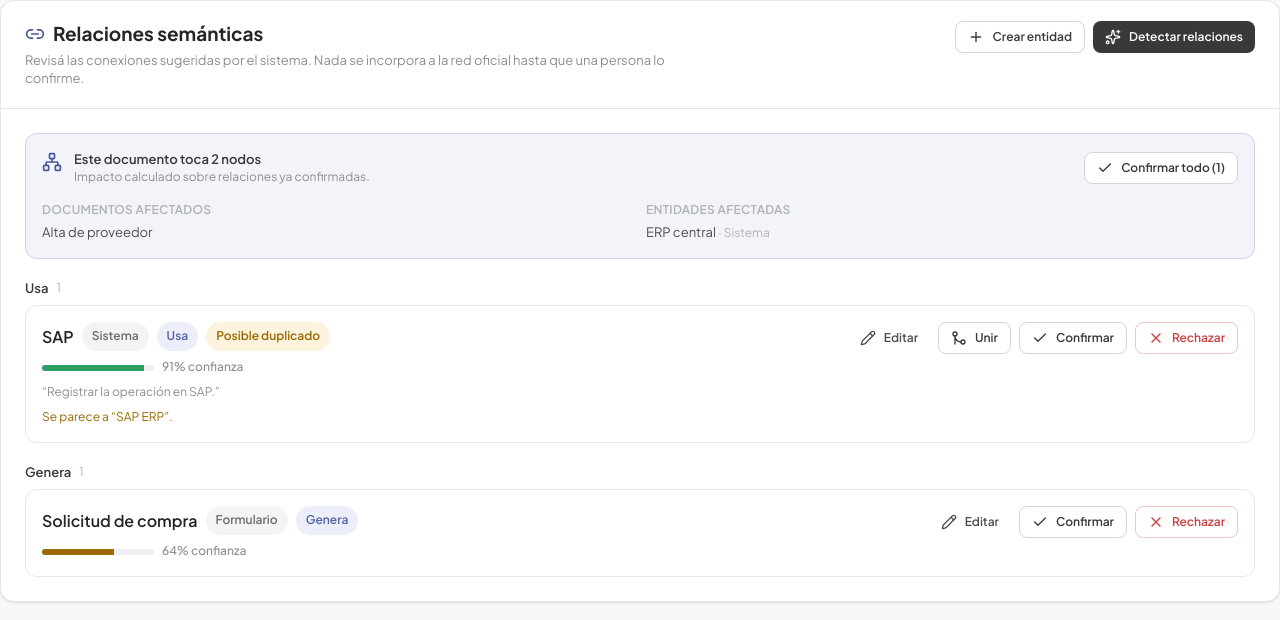
DocumentRelationsPanel › confirms in bulk only candidates at or above the confidence threshold
The width and height of the screenshot is (1280, 620).
Expected: the text "SAP" is shown, [42,325,74,349]
Click the button "Confirmar todo (1)": (1161, 168) [1084,152,1238,184]
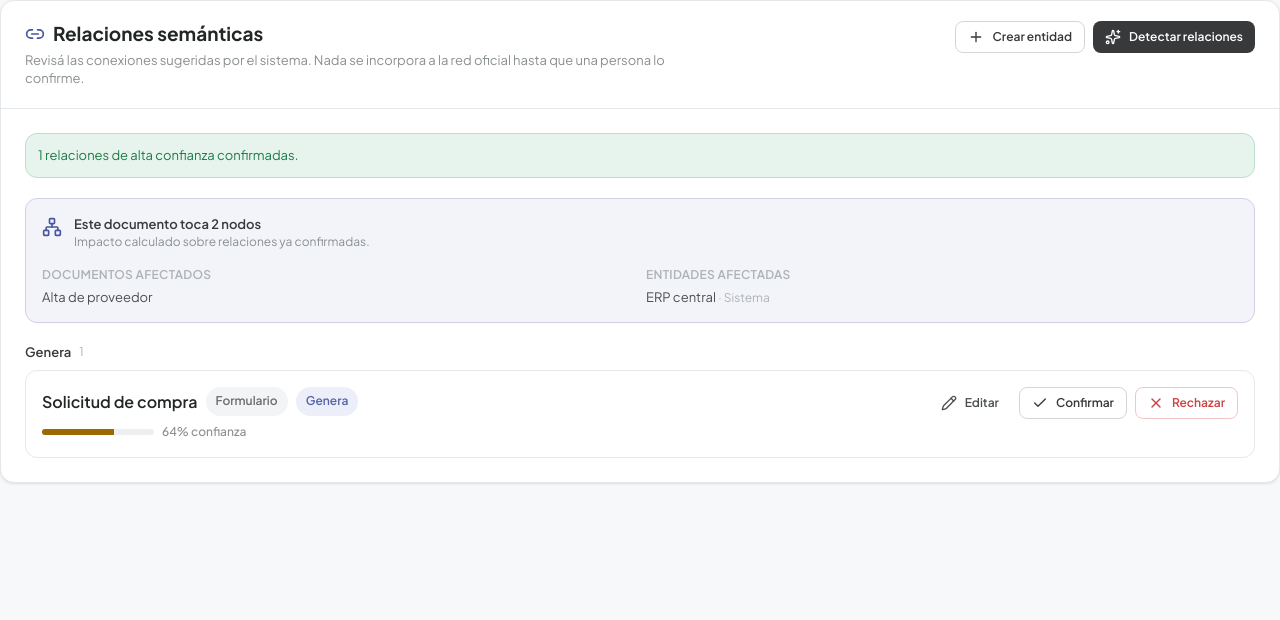
Expected: the text "Solicitud de compra" is shown, [42,390,198,414]
Now the text "SAP" is gone
